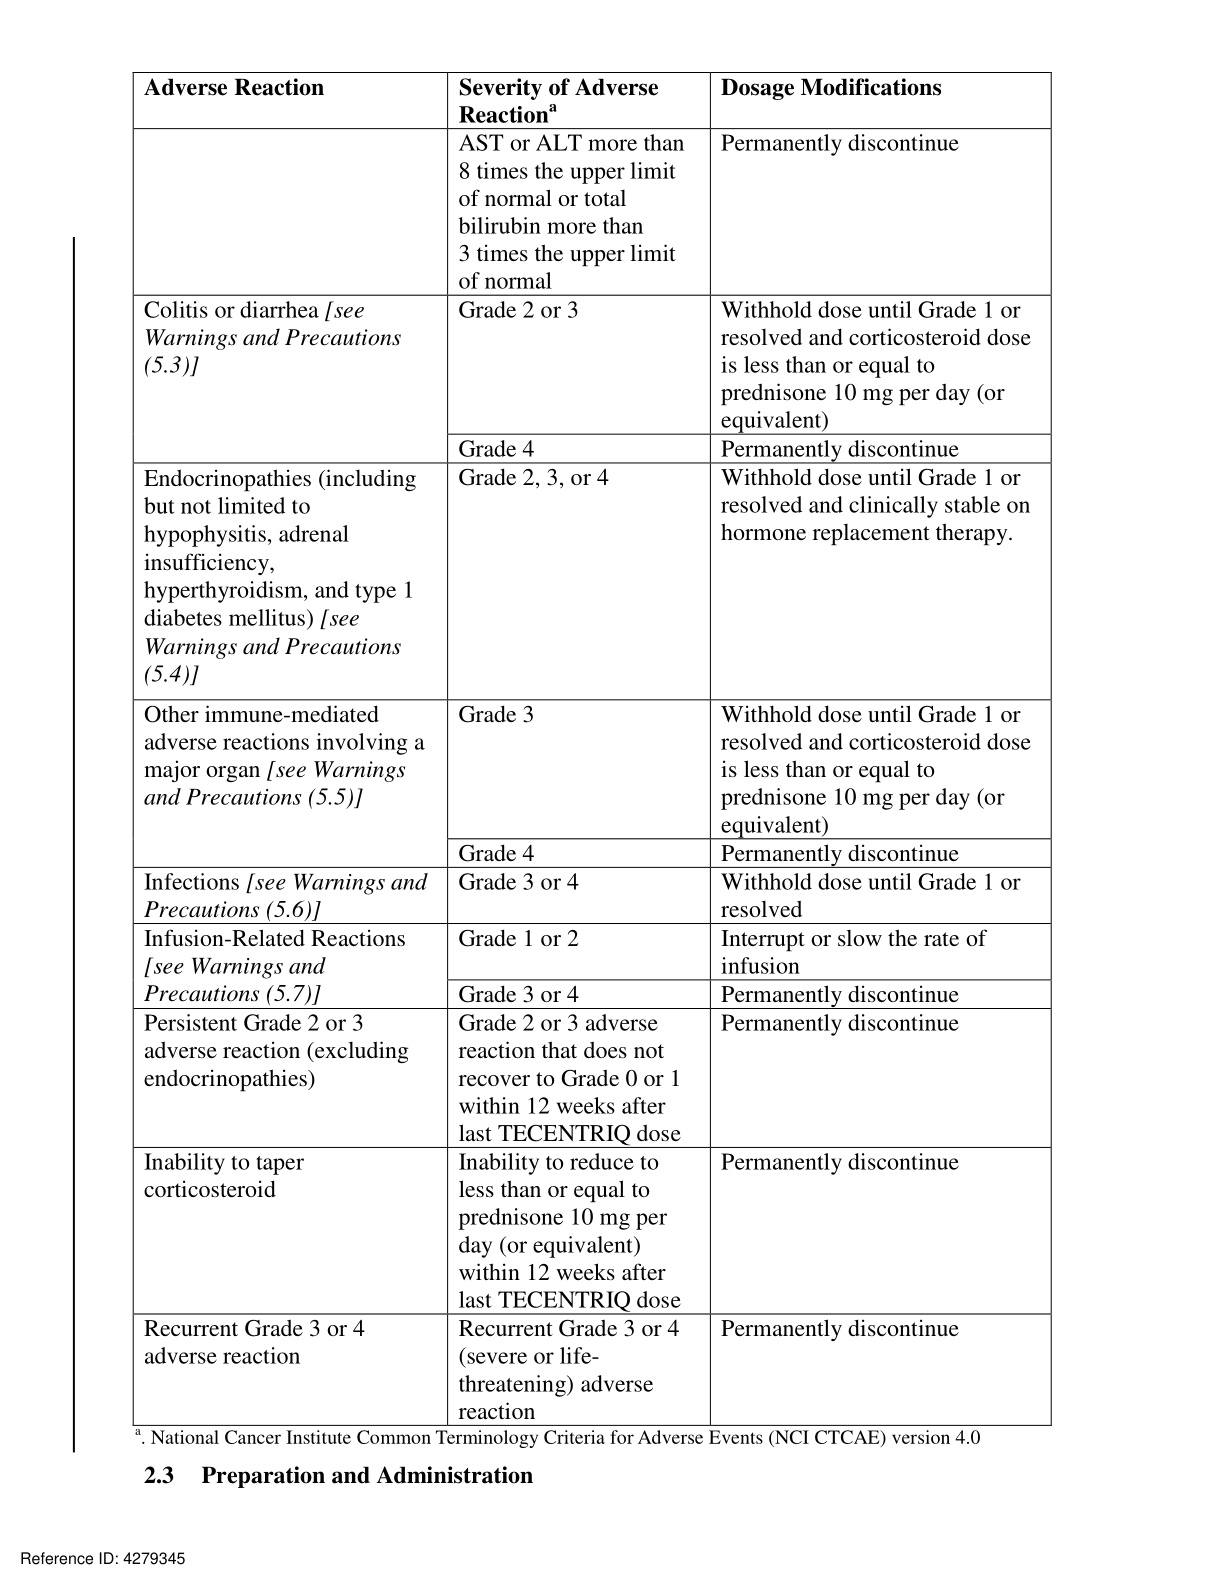merged_cells: (131, 71, 1052, 1428)
